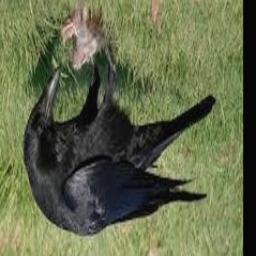Crow: (25, 41, 215, 237)
